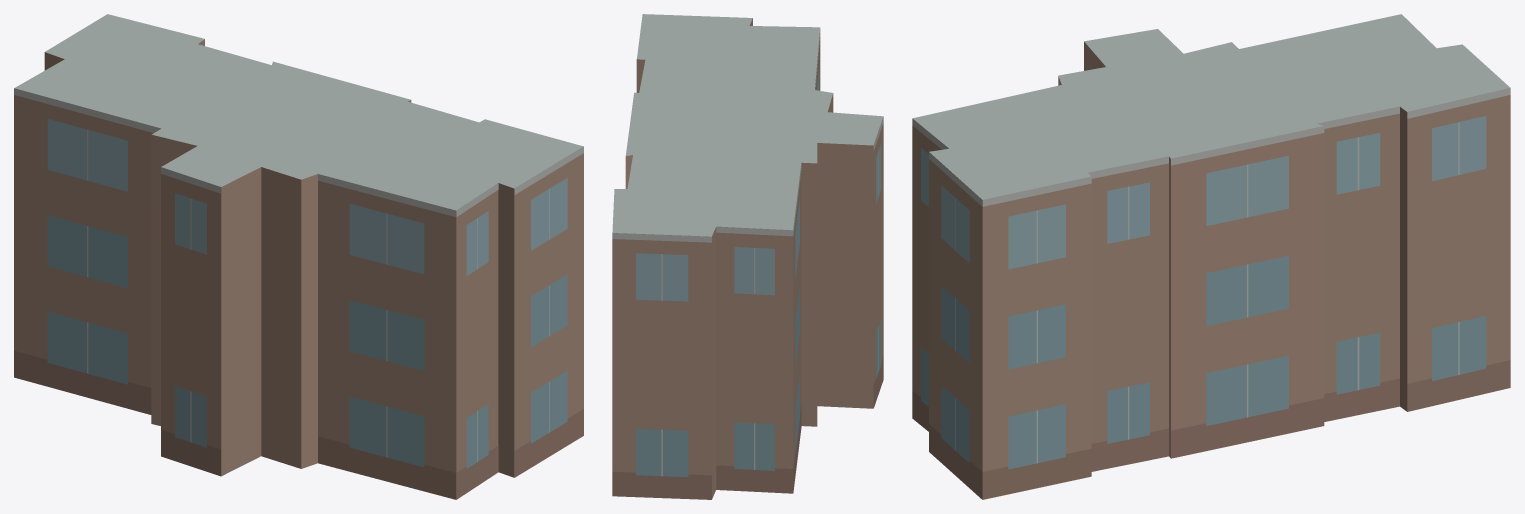
Rendered from survey-upis-32946551.glb.
The picture shows the model from 3 angles, left to right: view 1: azimuth 30°, elevation 25°; view 2: azimuth 150°, elevation 25°; view 3: azimuth 270°, elevation 25°; orthographic projection. The views are drawn at different scales.
Visible parts, largest first — view 1: survey-upis-32946551.tmp; view 2: survey-upis-32946551.tmp; view 3: survey-upis-32946551.tmp.
Boxes of the visible parts, <box> form: survey-upis-32946551.tmp: <box>14,14,583,499</box>; survey-upis-32946551.tmp: <box>612,14,883,499</box>; survey-upis-32946551.tmp: <box>912,14,1510,499</box>.
Bounding box in the file's own units: 14.04 × 10.55 × 19.09.
